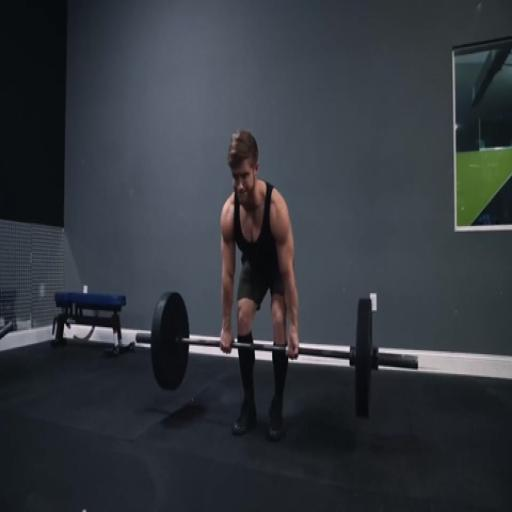exercise: (216, 126, 303, 444)
